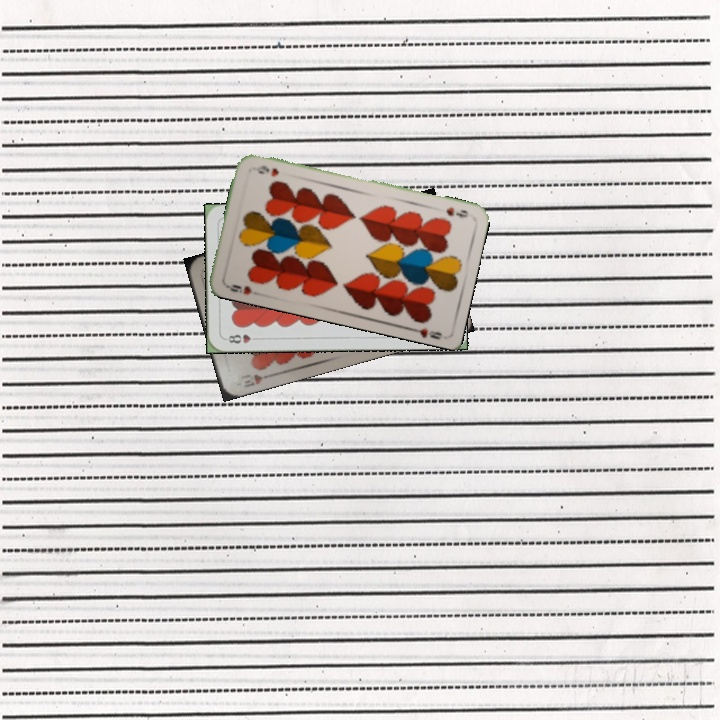H10: (237, 370, 274, 390)
H8: (222, 330, 262, 346)
H9: (222, 280, 254, 297), (442, 203, 471, 220)
